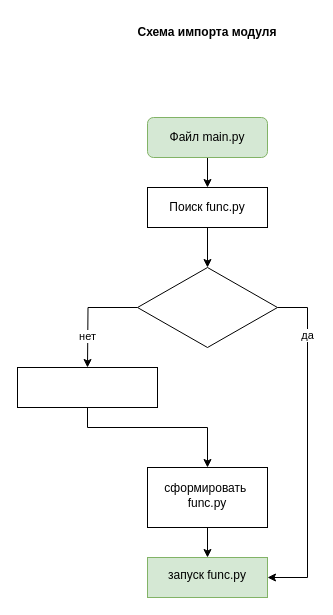
Some shapes in this 333 by 615 pixel diagram are drawn without their labels. Here are the shapes that lost their labels. From the top down, the centre of each, then its label:
the point at 207,307: Есть ли файл func.py
the point at 87,387: Ошибка ModuleNotFoundError
